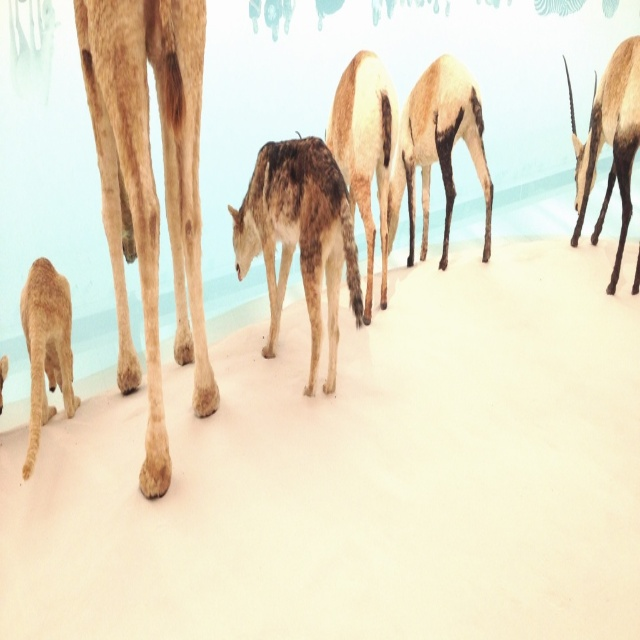Camel: (70, 0, 220, 492)
